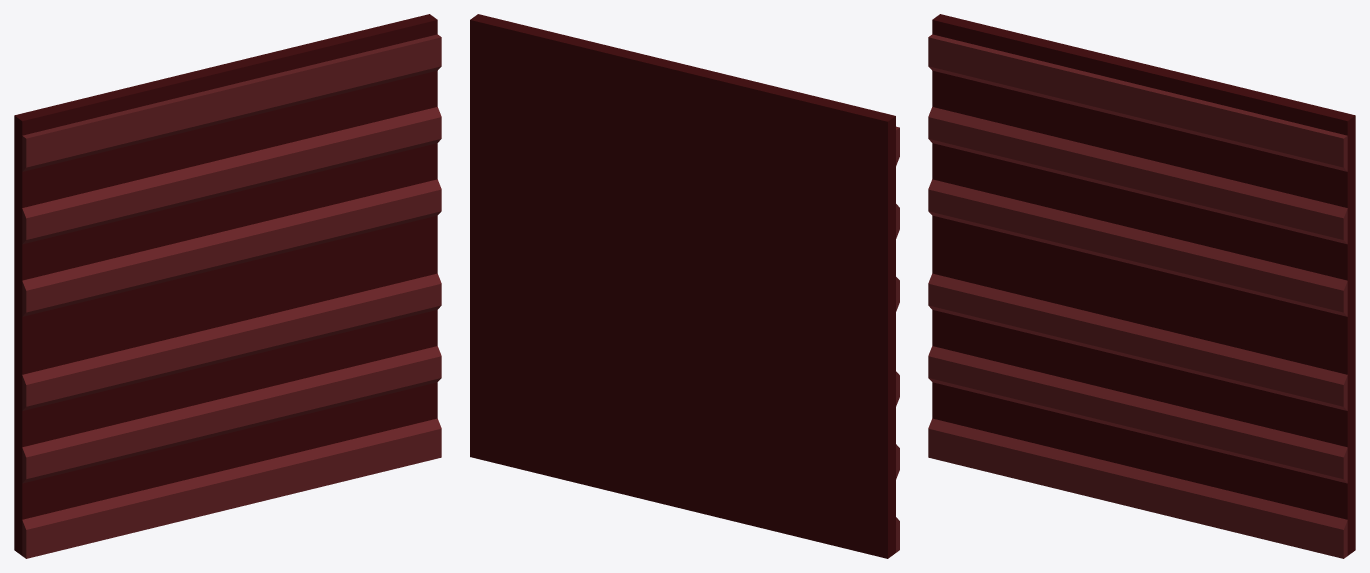
Rendered from Small_Wall_Interior_V2.glb.
3 renders of one model, left to right at view 1: azimuth 30°, elevation 25°; view 2: azimuth 150°, elevation 25°; view 3: azimuth 330°, elevation 25°, orthographic.
Visible parts, largest first — view 1: Small_Wall, Small_Interior; view 2: Small_Wall, Small_Interior; view 3: Small_Wall, Small_Interior.
Part boxes in pixels (left/top/right/bottom): Small_Wall: left=14, top=14, right=437, bottom=555; Small_Interior: left=22, top=34, right=441, bottom=558; Small_Wall: left=470, top=14, right=895, bottom=558; Small_Interior: left=896, top=126, right=899, bottom=552; Small_Wall: left=932, top=14, right=1355, bottom=555; Small_Interior: left=928, top=34, right=1347, bottom=558.
Bounding box in the file's own units: 6 × 6 × 0.3.
